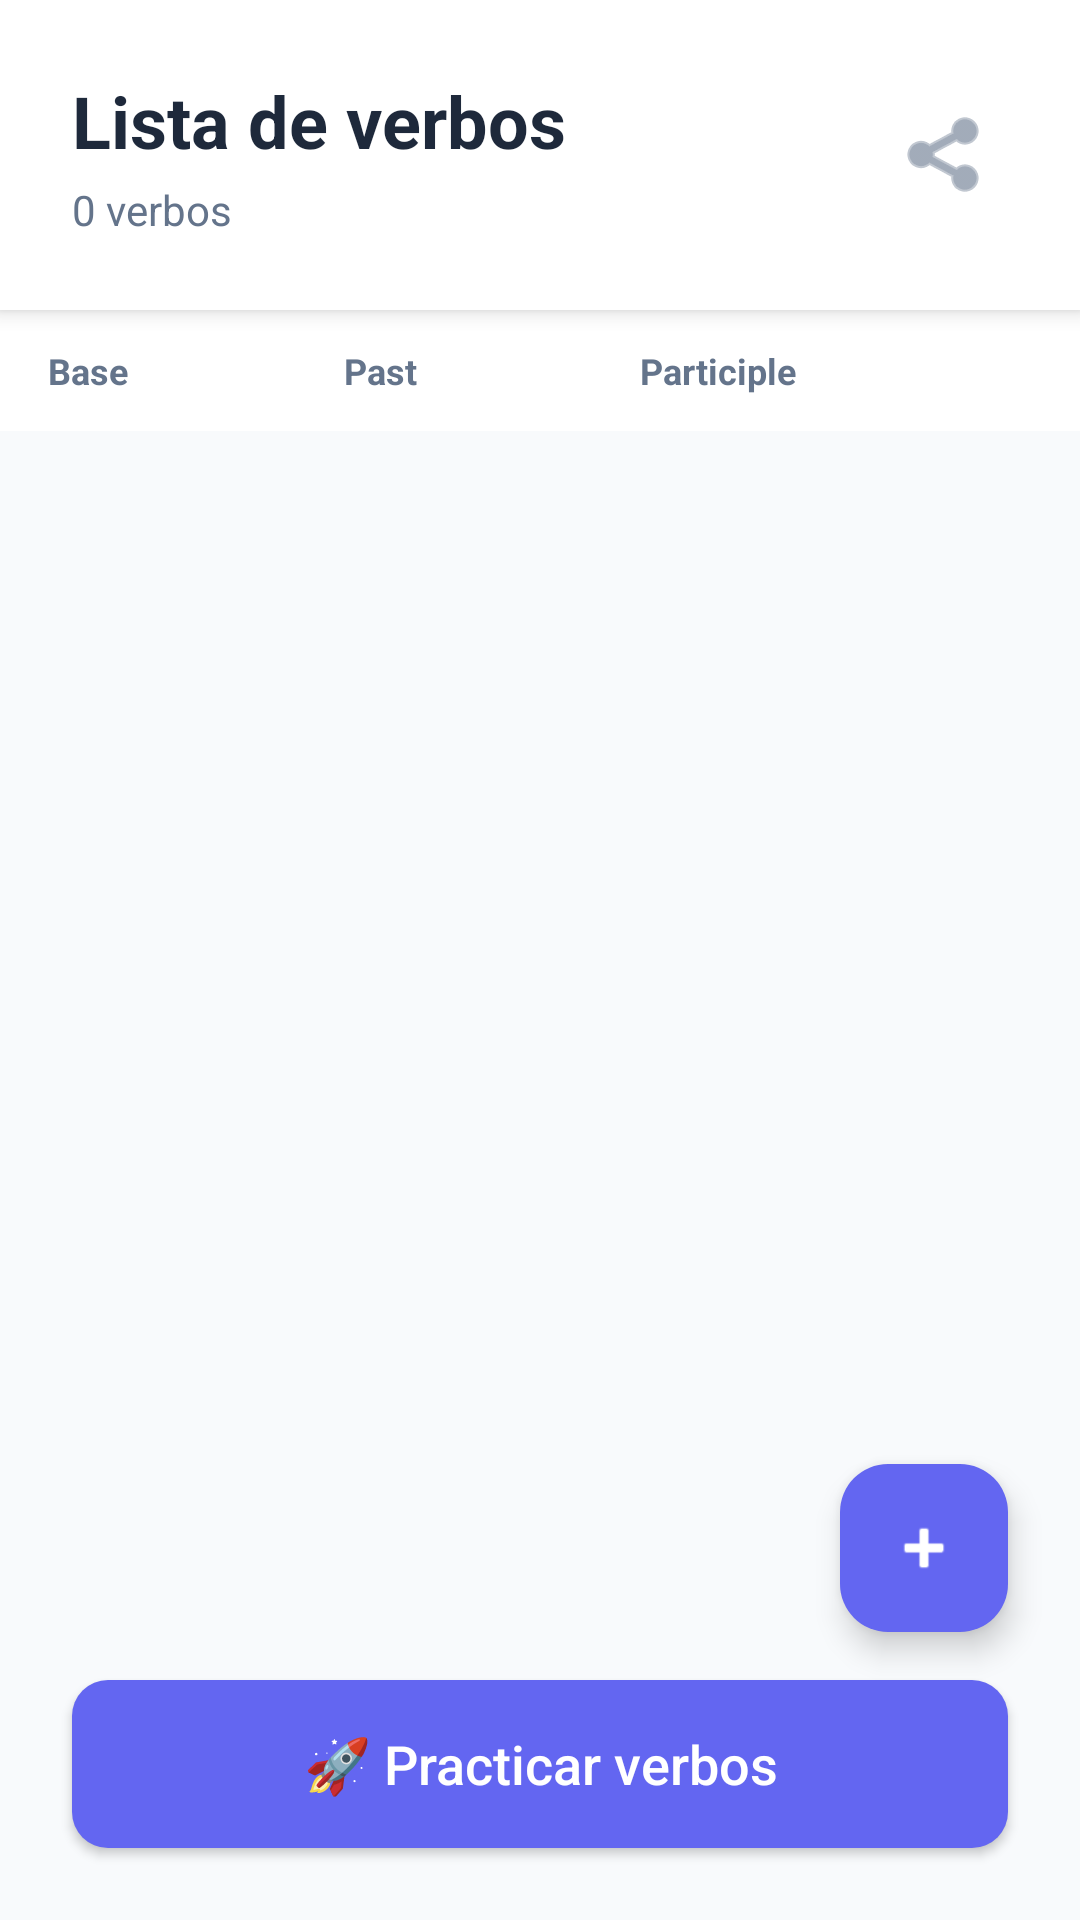

Point at icon controls on the screen. Image size 1080w x 1920h, points as point (x, y).
Agregar verbo: point (924, 1548)
Compartir lista: point (943, 154)
